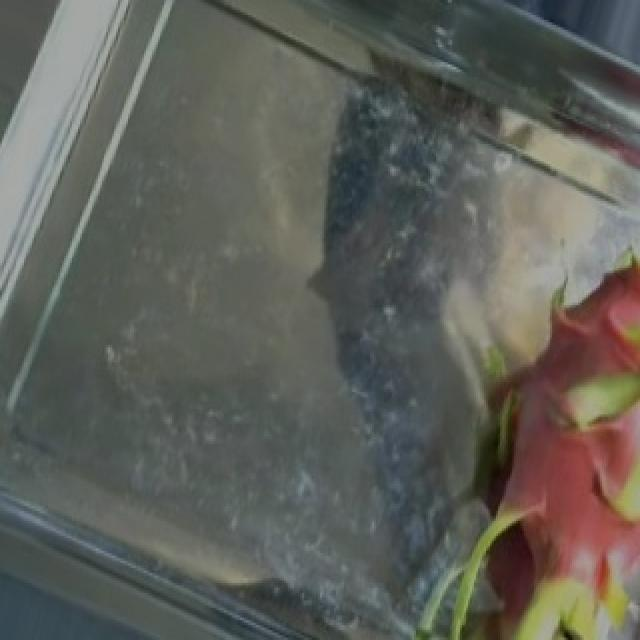fruit: (322, 208, 640, 635)
